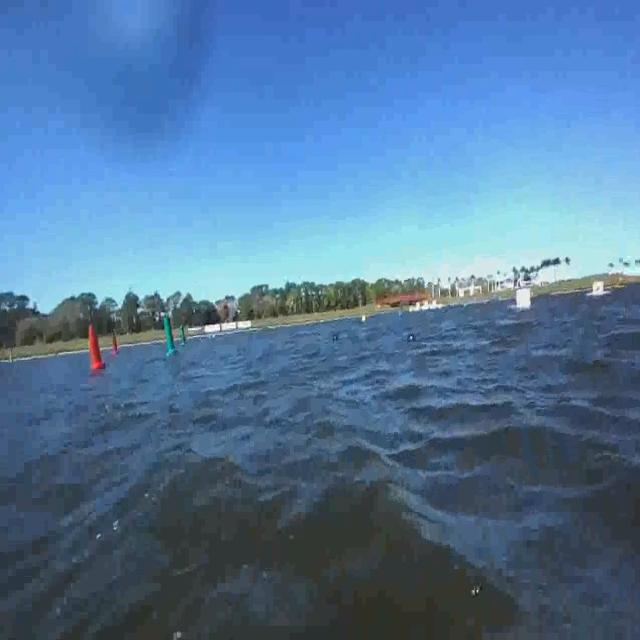black-buoy: (332, 333, 342, 344), (408, 335, 418, 344)
green-column-buoy: (162, 316, 179, 357), (182, 327, 189, 346)
red-column-buoy: (87, 323, 106, 371), (111, 334, 120, 357)
yellow-buoy: (360, 314, 366, 324)
